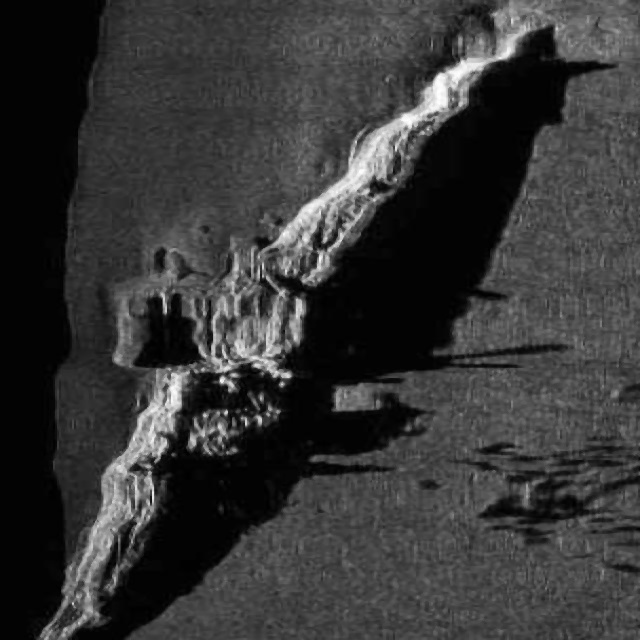Ship: (34, 3, 578, 640)
